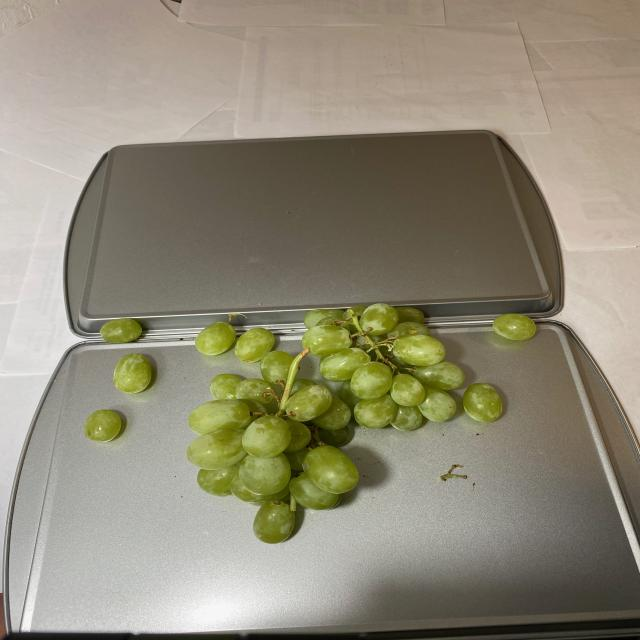grapes: (82, 301, 546, 545)
